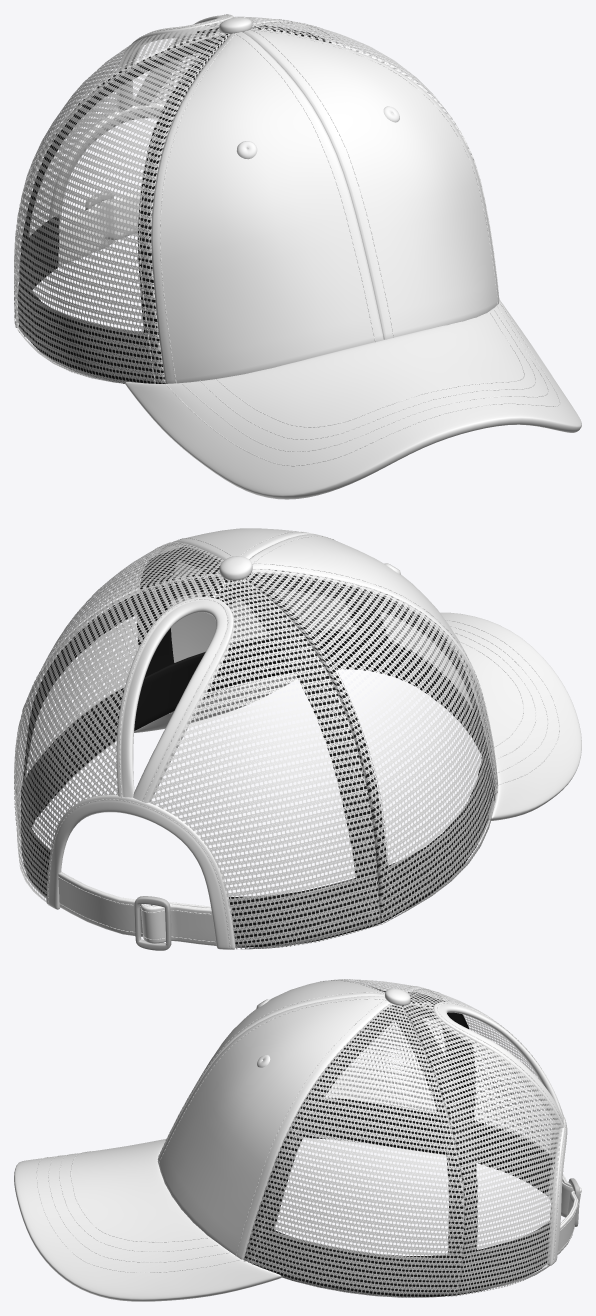
3 views of the same model, one above another, from view 1: azimuth 30°, elevation 25°; view 2: azimuth 150°, elevation 25°; view 3: azimuth 270°, elevation 25° (orthographic). The views are drawn at different scales.
Parts seen in each view (by area): view 1: front.001, maoshe.001, qianzuo.001, neibu, houzuo.001, bian, stitch, daizi, qianyou.001, stitch、, houyou.001; view 2: houzuo.001, neibu, qianzuo.001, houyou.001, maoshe.001, front.001, bian, qianyou.001, daizi, stitch, stitch、, metal.001 (+1 smaller); view 3: qianyou.001, front.001, neibu, maoshe.001, houyou.001, bian, houzuo.001, qianzuo.001, stitch, daizi, stitch、.
Boxes of the visible parts, x1,y1,x2,y2 form: front.001: (151, 29, 498, 383); maoshe.001: (125, 300, 581, 499); qianzuo.001: (14, 32, 230, 383); neibu: (17, 25, 331, 383); houzuo.001: (14, 23, 224, 327); bian: (49, 14, 233, 222); stitch: (14, 14, 497, 383); daizi: (58, 191, 140, 265); qianyou.001: (251, 21, 499, 302); stitch、: (165, 303, 560, 466); houyou.001: (152, 16, 331, 103); houzuo.001: (149, 578, 380, 949); neibu: (21, 546, 495, 947); qianzuo.001: (243, 569, 498, 924); houyou.001: (14, 573, 230, 902); maoshe.001: (134, 612, 581, 820); front.001: (158, 528, 497, 786); bian: (46, 597, 235, 949); qianyou.001: (14, 542, 223, 833); daizi: (58, 871, 216, 945); stitch: (14, 531, 497, 949); stitch、: (169, 620, 559, 784); metal.001: (134, 896, 171, 950); qianyou.001: (243, 1003, 464, 1297); front.001: (157, 980, 392, 1259); neibu: (245, 988, 552, 1296); maoshe.001: (14, 1139, 281, 1301); houyou.001: (400, 1002, 562, 1295); bian: (432, 1002, 567, 1265); houzuo.001: (408, 988, 552, 1150); qianzuo.001: (325, 979, 445, 1111); stitch: (158, 979, 581, 1295); daizi: (548, 1166, 581, 1254); stitch、: (36, 1150, 239, 1272).
Bounding box in the file's own units: 5.43 × 4.01 × 8.36.
15 materials, 4 textured.
